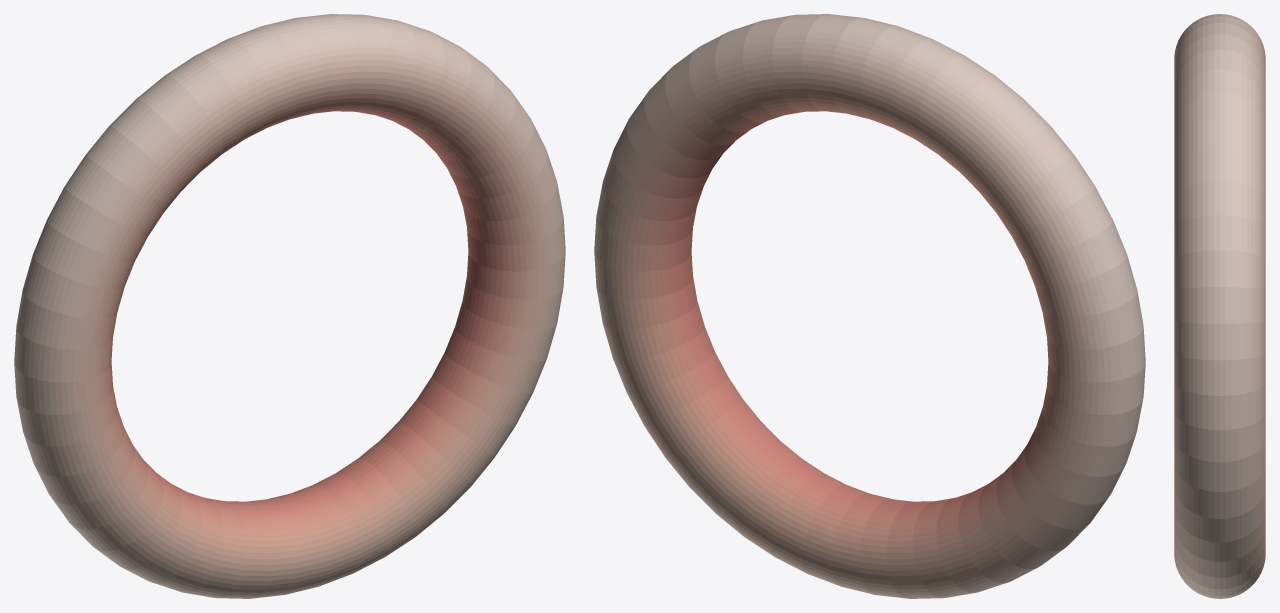
The picture shows the model from 3 angles, left to right: view 1: azimuth 30°, elevation 25°; view 2: azimuth 150°, elevation 25°; view 3: azimuth 270°, elevation 25°; orthographic projection. The views are drawn at different scales.
Visible parts, largest first — view 1: world; view 2: world; view 3: world.
Boxes of the visible parts, box(x1,y1,x2,y2) form: world: box(14, 14, 565, 598); world: box(594, 14, 1145, 598); world: box(1174, 14, 1265, 598).
Bounding box in the file's own units: 33.2 × 33.13 × 5.19.
